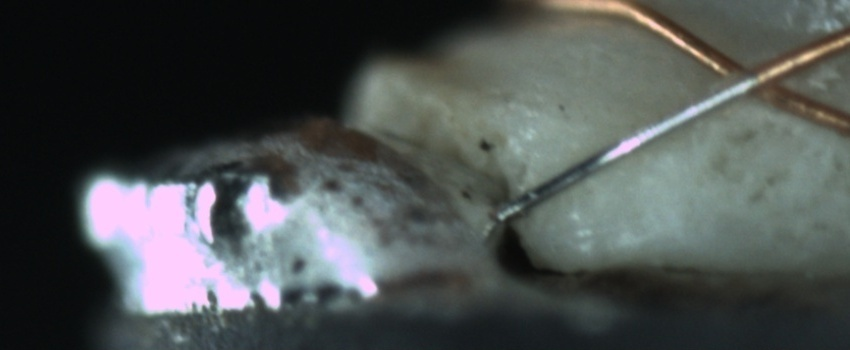CL: (693, 40, 826, 112)
TS: (498, 72, 761, 229)
